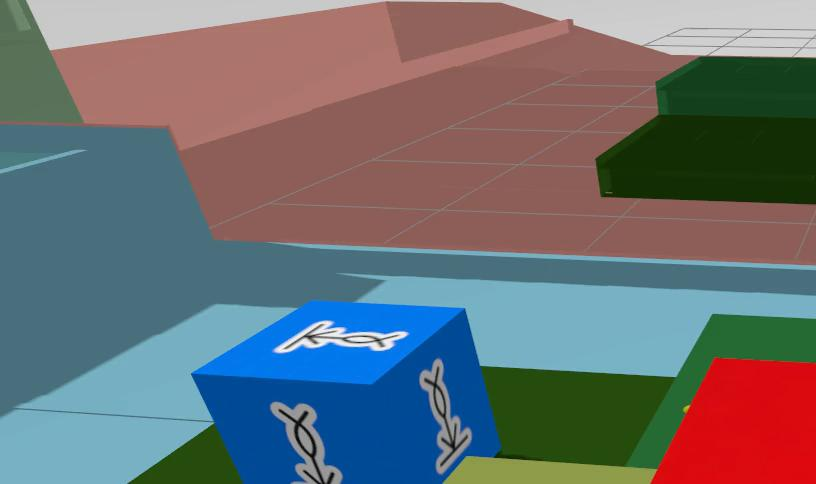KFS_FAKE: (650, 360, 816, 484)
KFS_REAL: (193, 301, 500, 484), (270, 402, 351, 484), (419, 359, 472, 474), (275, 321, 407, 352)
